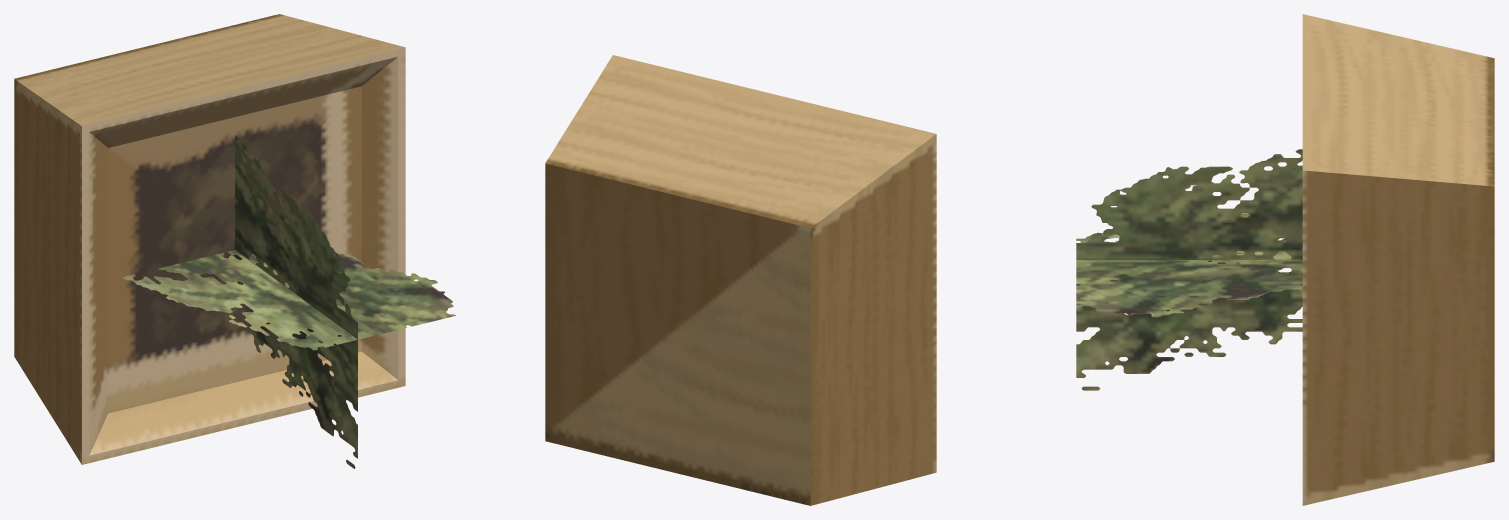
File: pz_plant_native_16.obj
3 renders of one model, left to right at view 1: azimuth 30°, elevation 25°; view 2: azimuth 150°, elevation 25°; view 3: azimuth 270°, elevation 25°, orthographic.
Visible parts, largest first — view 1: pot_soil_and_rim, foliage_PNG_crossed_cards; view 2: pot_soil_and_rim; view 3: pot_soil_and_rim, foliage_PNG_crossed_cards.
Part boxes in pixels (x1,y1,x2,y2): pot_soil_and_rim: (14, 14, 405, 464); foliage_PNG_crossed_cards: (122, 135, 455, 468); pot_soil_and_rim: (545, 55, 936, 505); pot_soil_and_rim: (1302, 14, 1494, 505); foliage_PNG_crossed_cards: (1076, 149, 1302, 390).
Bounding box in the file's own units: 0.54 × 0.54 × 0.61.
